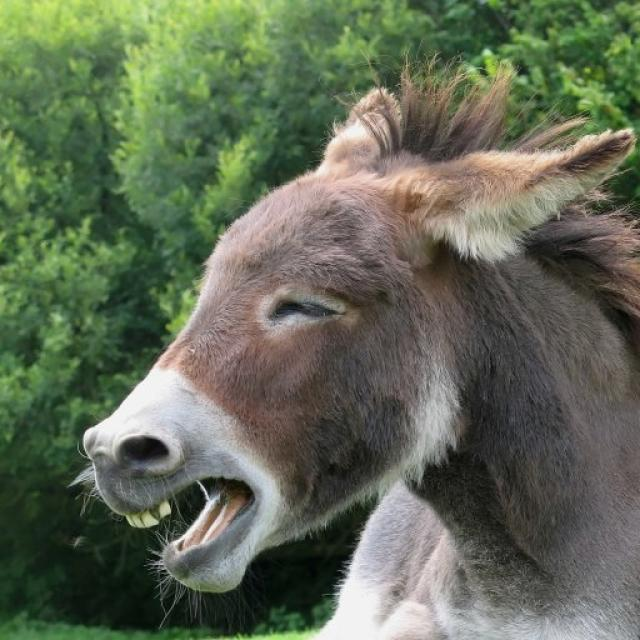donkey: (76, 64, 639, 639)
